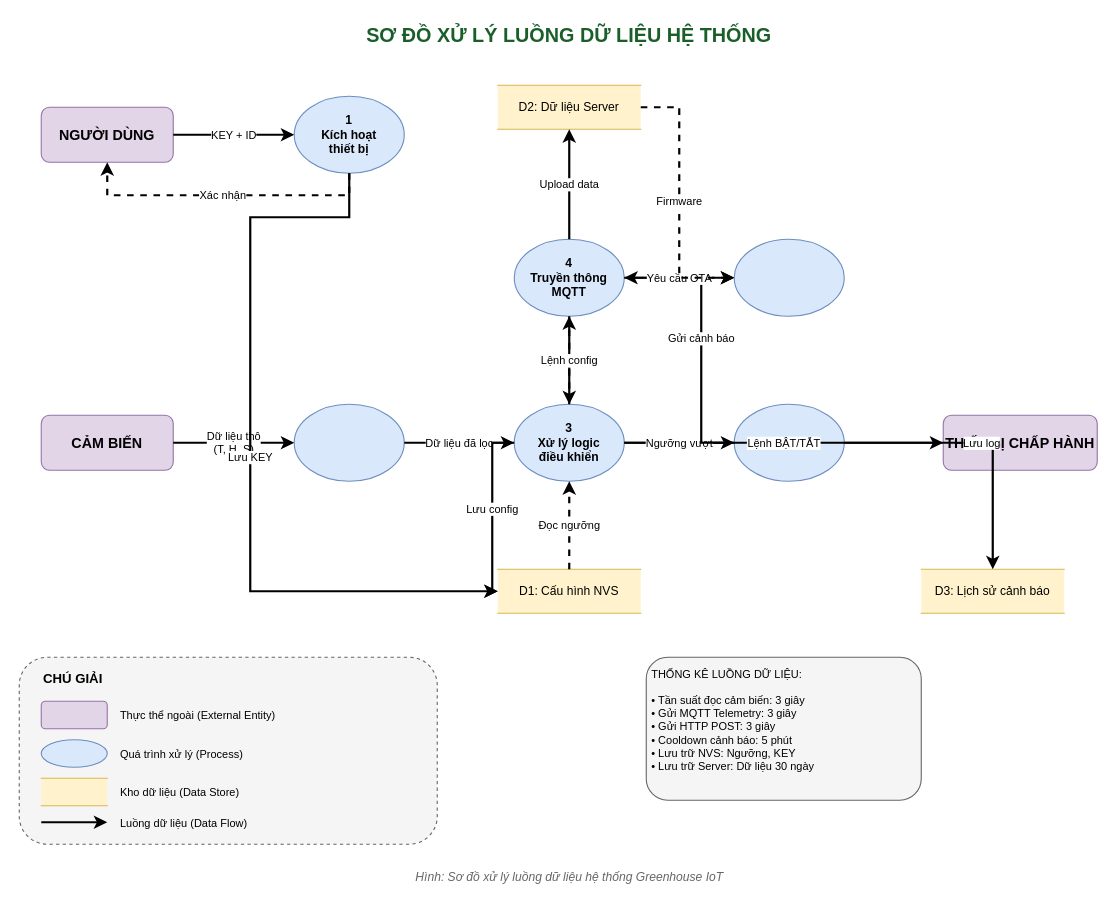
This 1117x906 diagram has some shape labels left out. Here are the shapes that lost their labels. From the top down, the centre of each, then its label:
the point at 788,277: 6 Cập nhật OTA
the point at 348,442: 2 Đọc & Lọc cảm biến
the point at 788,442: 5 Xử lý cảnh báo
